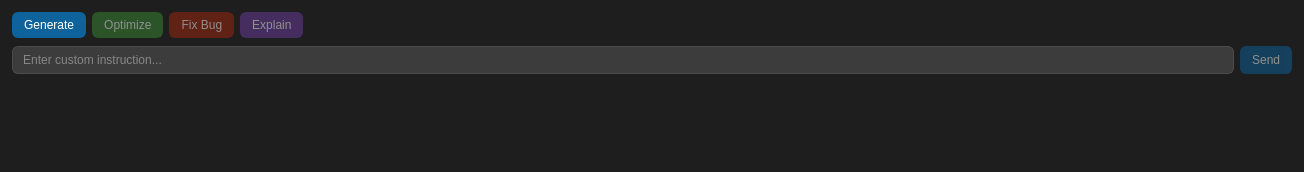
Scenario: ActionButtons › Custom request (Req 11.1) › should enable submit button when input has text
Step 1. Type "请帮我重构这段代码" into the field with test id "action-buttons-custom-input" → coordinates (623, 60), box [12,46,1234,74]
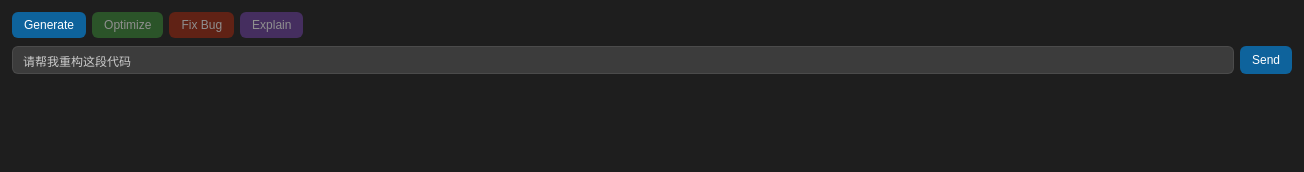
Check: the button with test id "action-btn-custom-submit" is enabled, box [1240,46,1292,74]
